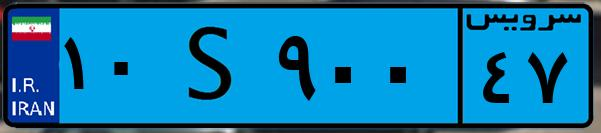0: (385, 28, 445, 110), (330, 28, 385, 110), (110, 28, 158, 98)
1: (57, 26, 110, 100)
4: (475, 38, 525, 113)
7: (525, 38, 570, 115)
9: (270, 28, 330, 110)
S: (158, 12, 270, 120)
